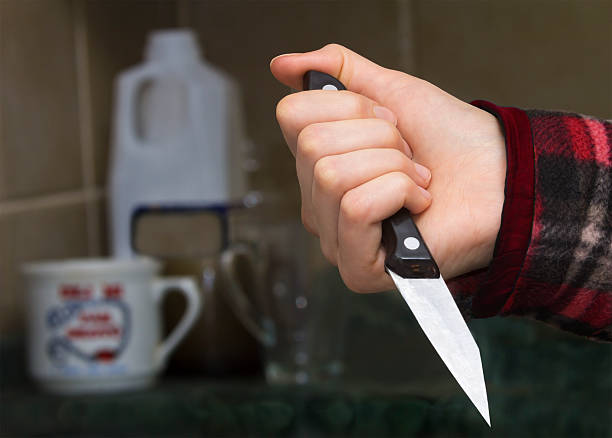knife: (382, 207, 493, 430)
